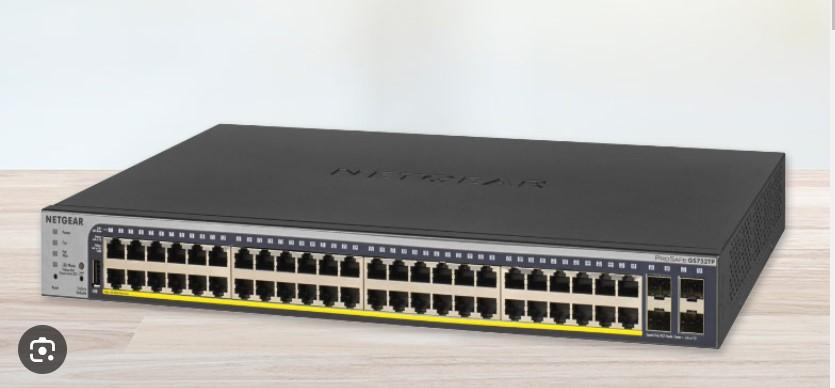NetworkSwitch: (39, 124, 789, 350)
